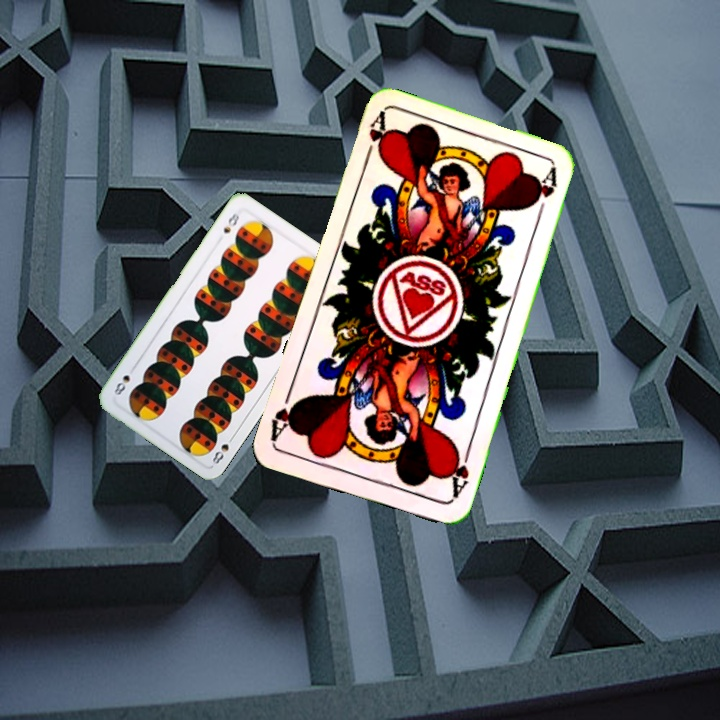HA: (359, 110, 392, 168), (444, 442, 474, 501)
S8: (208, 431, 237, 467), (219, 209, 242, 236)
